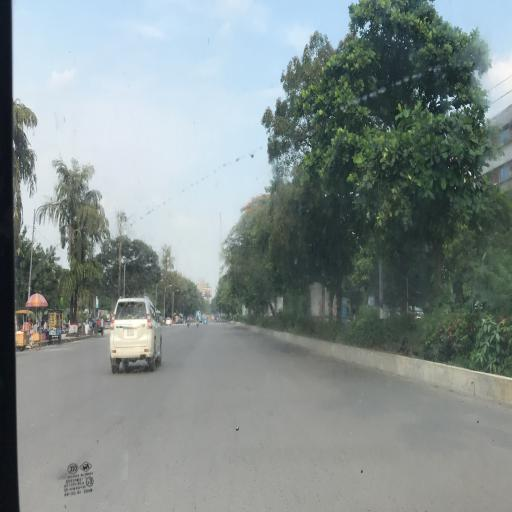car: (166, 316, 174, 329)
motorbike: (196, 315, 201, 329), (186, 316, 191, 329)
suv: (110, 296, 164, 373)
